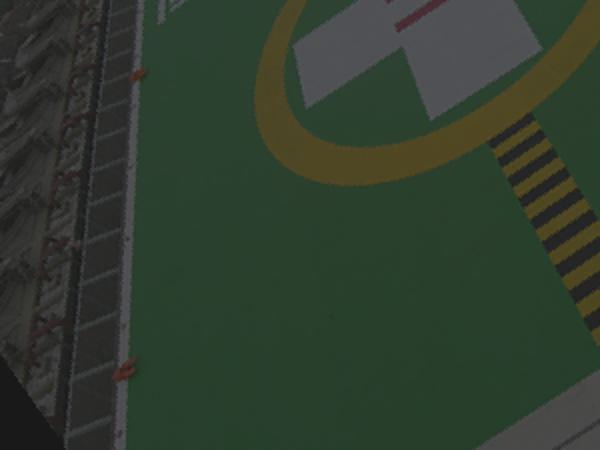Apron: (249, 1, 599, 187)
